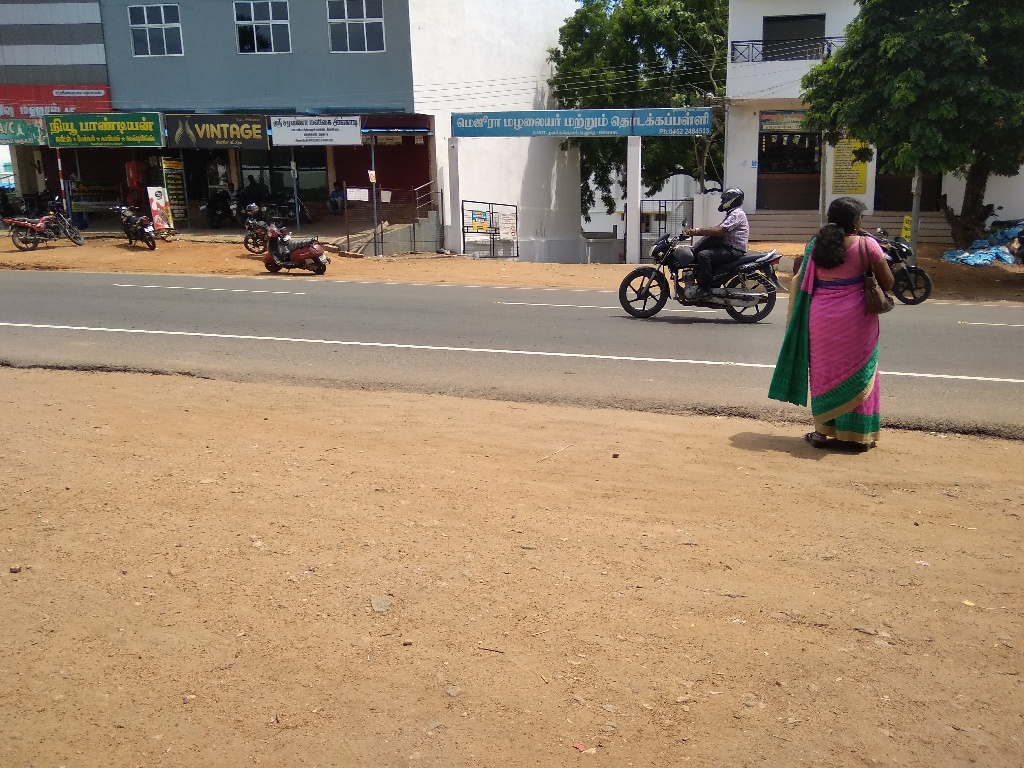biker: (606, 170, 798, 330)
helmet: (713, 179, 755, 222)
